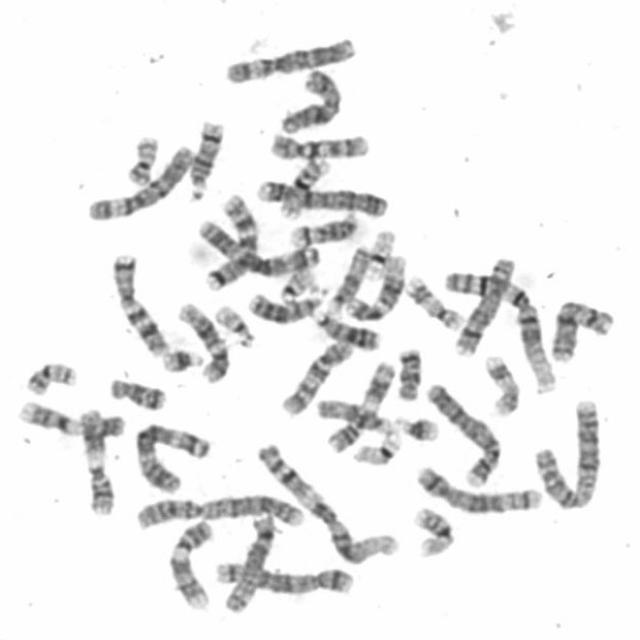A1: (248, 436, 402, 566), (438, 262, 558, 396)
A2: (526, 391, 604, 512), (128, 486, 309, 531)
A3: (194, 214, 321, 278), (128, 414, 214, 495)
B4: (420, 376, 504, 489), (250, 173, 390, 218)
B5: (410, 459, 544, 515), (209, 554, 357, 597)
C10: (275, 333, 355, 418), (263, 126, 372, 161)
C11: (321, 356, 398, 454), (73, 402, 117, 517)
C12: (172, 295, 232, 384), (338, 248, 408, 323)
C6: (82, 138, 196, 223), (218, 30, 358, 86)
C7: (104, 246, 170, 357), (199, 187, 261, 291)
C8: (448, 251, 517, 356), (216, 507, 278, 615)
C9: (161, 513, 217, 612), (11, 394, 127, 440)
D13: (243, 280, 327, 325), (305, 304, 382, 351)
D14: (181, 113, 226, 202), (284, 206, 360, 248)
D15: (310, 391, 396, 437), (321, 240, 372, 315)
E16: (272, 150, 334, 218), (407, 500, 456, 559)
E17: (401, 269, 466, 331), (478, 348, 522, 418)
E18: (102, 371, 168, 412), (391, 342, 424, 402)
F19: (346, 426, 402, 467), (361, 222, 398, 280)
F20: (19, 355, 80, 396), (120, 128, 162, 187)
G21: (389, 407, 442, 443), (155, 341, 205, 374)
G22: (209, 297, 258, 348), (272, 262, 318, 305)
X: (272, 62, 344, 135), (544, 292, 616, 363)
